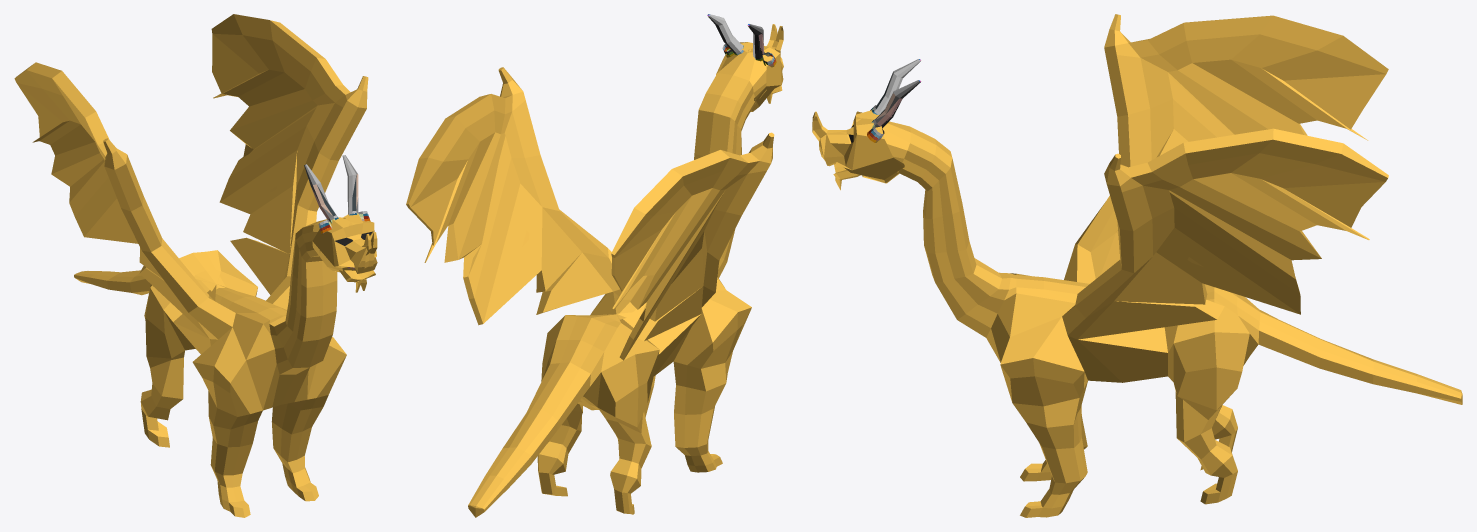
The model's file is drage.fbx.
The picture shows the model from 3 angles, left to right: view 1: azimuth 30°, elevation 25°; view 2: azimuth 150°, elevation 25°; view 3: azimuth 270°, elevation 25°; orthographic projection. The views are drawn at different scales.
Visible parts, largest first — view 1: drage; view 2: drage; view 3: drage.
Part boxes in pixels (bbox=[...]): drage: bbox=[14, 14, 377, 517]; drage: bbox=[406, 14, 783, 517]; drage: bbox=[812, 14, 1462, 517].
Size of the model in its own units: 616 by 851 by 1175.
